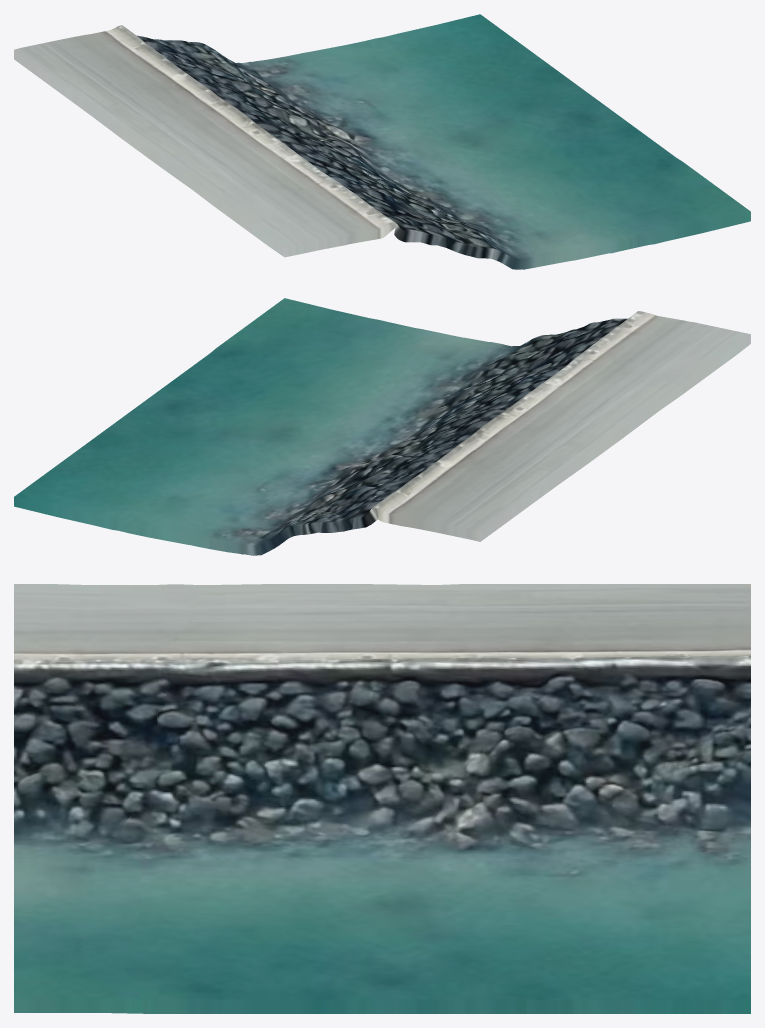
Rendered from z20-167557-405170-h0-yup-uvflip-v3-world.glb.
3 views of the same model, one above another, from view 1: azimuth 30°, elevation 25°; view 2: azimuth 150°, elevation 25°; view 3: azimuth 270°, elevation 25° (orthographic). The views are drawn at different scales.
Bounding box in the file's own units: 30.16 × 5.44 × 30.32.
1 material, 1 textured.
